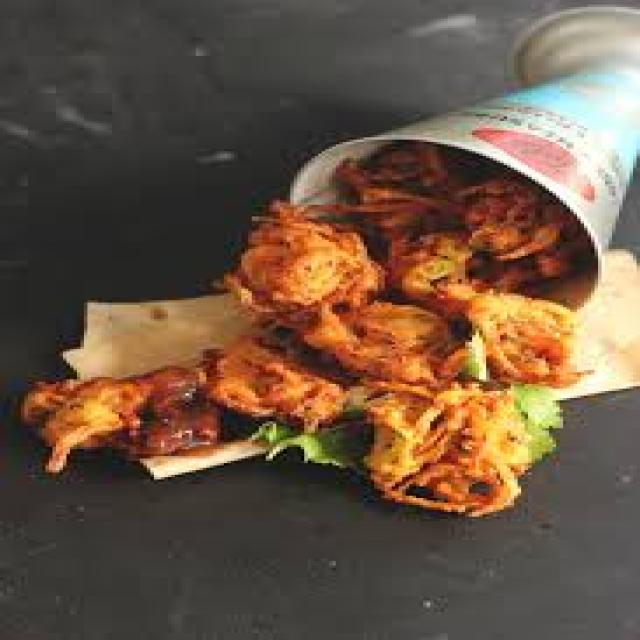BAJI: (27, 154, 593, 511)
